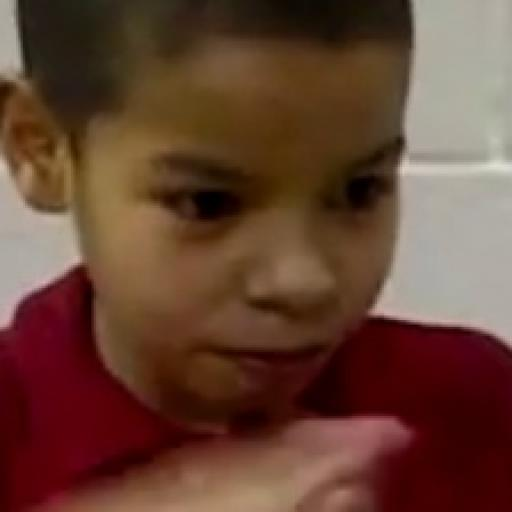Autism: (27, 0, 433, 426)
